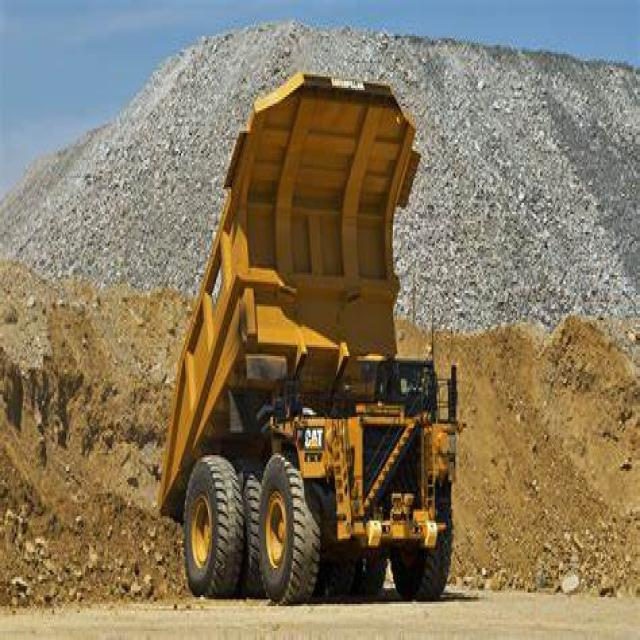dump_truck: (149, 54, 455, 604)
